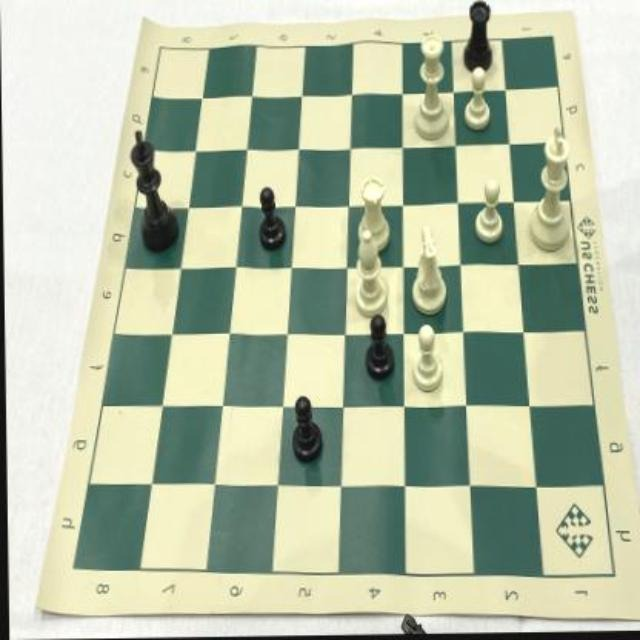black-king: (126, 126, 182, 259)
black-pawn: (284, 391, 325, 469), (358, 312, 398, 384), (254, 182, 288, 260)
black-rook: (456, 0, 499, 83)
white-bishop: (349, 223, 389, 326)
white-king: (522, 120, 575, 260)
white-knight: (406, 224, 450, 320)
white-pawn: (409, 321, 447, 401), (470, 176, 506, 251), (459, 67, 497, 136)
white-queen: (406, 29, 452, 145)
white-rook: (352, 169, 395, 259)
